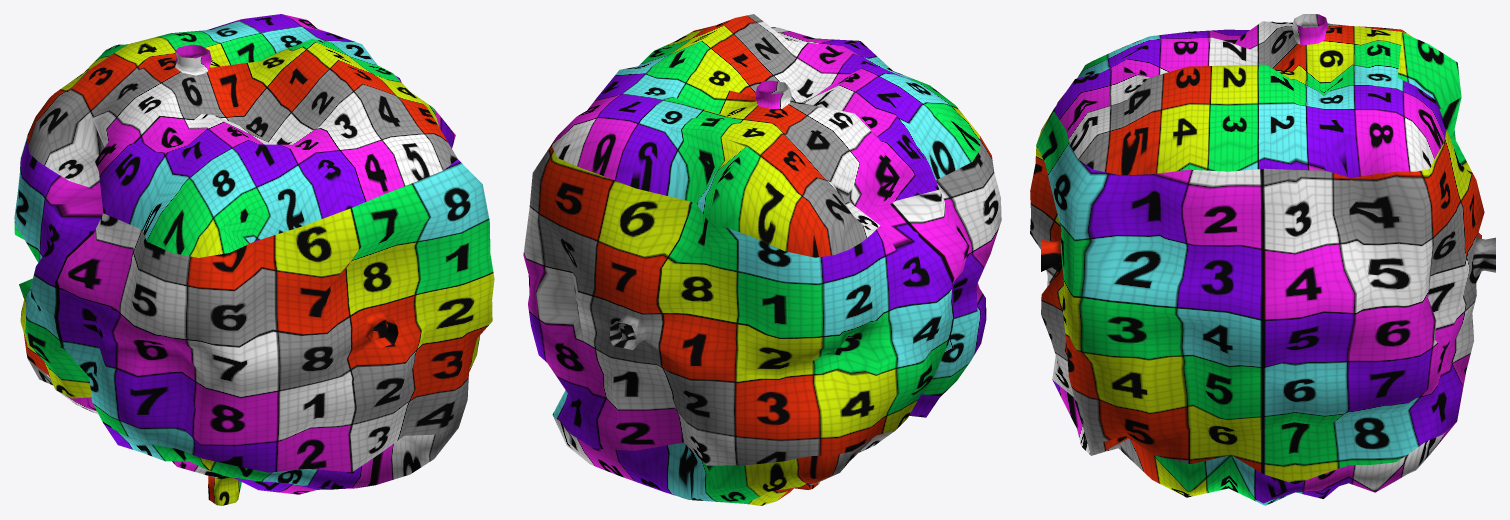
The model's file is Med Cave 1.fbx.
The picture shows the model from 3 angles, left to right: view 1: azimuth 30°, elevation 25°; view 2: azimuth 150°, elevation 25°; view 3: azimuth 270°, elevation 25°; orthographic projection. The views are drawn at different scales.
Parts seen in each view (by area): view 1: Med_Cave_1; view 2: Med_Cave_1; view 3: Med_Cave_1.
Boxes of the visible parts, x1,y1,x2,y2 form: Med_Cave_1: (14,14,494,505); Med_Cave_1: (523,14,1001,505); Med_Cave_1: (1030,14,1495,505).
Bounding box in the file's own units: 594 × 614 × 590.
1 material, 1 textured.
